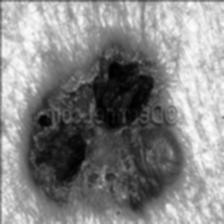Potentially Malignant Skin Tumors: (26, 43, 184, 213)
